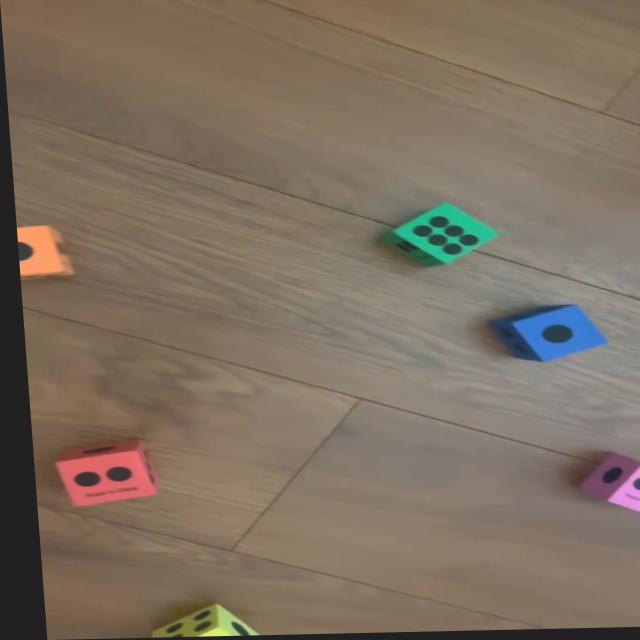blue_block: (487, 305, 604, 366)
red_block: (49, 438, 153, 507)
